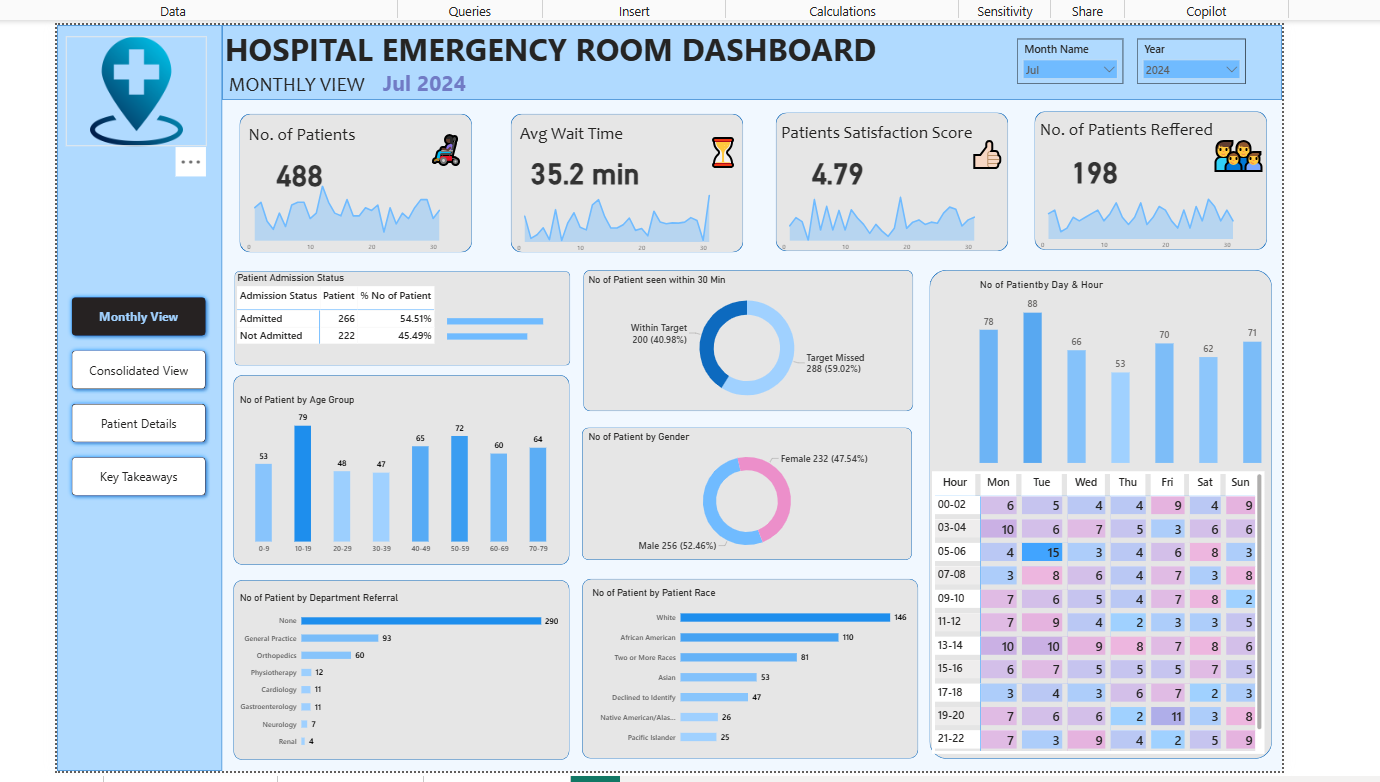

Layout of this report page (visuals, bound fields, positions):
{"tool":"powerbi","page":{"name":"Monthly View","canvas":[2300,1400],"ordinal":0},"visuals":[{"type":"shape","box":[0,0,310,1400],"z":0},{"type":"shape","box":[309.7,0,1989.3,140.8],"z":1000},{"type":"textbox","box":[309.7,0,1259.7,91.5],"z":2000},{"type":"textbox","box":[316.7,84.5,290.9,56.3],"z":3000},{"type":"shape","box":[343.1,167.2,436.3,260.4],"z":4000},{"type":"card","fields":{"Values":["Hospital ER_Data.No of Patient"]},"box":[368.9,235.3,173.6,82.1],"z":5000},{"type":"slicer","fields":{"Values":["Date Table.Month Name"]},"box":[1801.6,25.8,199.4,84.5],"z":6000},{"type":"slicer","fields":{"Values":["Date Table.Year"]},"box":[2026.8,25.8,204.1,84.5],"z":7000},{"type":"textbox","box":[354.8,181.3,229.9,58.6],"z":8000},{"type":"areaChart","fields":{"Category":["Date Table.Date.Variation.Date Hierarchy.Day"],"Y":["Hospital ER_Data.No of Patient"]},"box":[344,289.5,434,145.4],"z":9000},{"type":"card","fields":{"Values":["Min(Date Table.Month & Year)"]},"box":[577.1,82.1,225.2,51.6],"z":10000},{"type":"shape","box":[851.8,166.3,436.3,260.4],"z":11000},{"type":"card","fields":{"Values":["Hospital ER_Data.Avg Wait Time"]},"box":[876.5,233.2,227.5,82.1],"z":12000},{"type":"textbox","box":[862.4,179.2,241.6,58.6],"z":13000},{"type":"areaChart","fields":{"Category":["Date Table.Date.Variation.Date Hierarchy.Day"],"Y":["Avg(Hospital ER_Data.Patient Waittime)"]},"box":[851.8,290.6,434,145.4],"z":14000},{"type":"shape","box":[1349.7,165,436.3,260.4],"z":15000},{"type":"card","fields":{"Values":["Hospital ER_Data.Avg Patient Satisfaction Score"]},"box":[1369.1,233.2,190,82.1],"z":16000},{"type":"textbox","box":[1353.6,175.9,375.3,58.6],"z":17000},{"type":"areaChart","fields":{"Category":["Date Table.Date.Variation.Date Hierarchy.Day"],"Y":["Avg(Hospital ER_Data.Patient Satisfaction Score)"]},"box":[1349.7,289.3,434,145.4],"z":18000},{"type":"shape","box":[1834.2,161.7,436.3,260.4],"z":19000},{"type":"card","fields":{"Values":["Hospital ER_Data.No of Patient Reffered"]},"box":[1860,229.7,173.6,82.1],"z":20000},{"type":"textbox","box":[1839.2,171.2,356.6,58.6],"z":21000},{"type":"areaChart","fields":{"Category":["Date Table.Date.Variation.Date Hierarchy.Day"],"Y":["Hospital ER_Data.No of Patient Reffered"]},"box":[1834.2,286,434,145.4],"z":22000},{"type":"shape","box":[333.1,463,630,177],"z":23000},{"type":"pivotTable","title":"Patient Admission Status","fields":{"Rows":["Hospital ER_Data.Admission Status"],"Values":["Hospital ER_Data.No of Patient","Divide(Hospital ER_Data.No of Patient, ScopedEval(Hospital ER_Data.No of Patient, []))"]},"box":[333.1,465.3,628.7,171.2],"z":24000},{"type":"barChart","fields":{"Category":["Hospital ER_Data.Admission Status"],"Y":["Hospital ER_Data.No of Patient"]},"box":[727.2,524,213.5,89.1],"z":25000},{"type":"shape","box":[330.8,656.8,631,356.6],"z":26000},{"type":"clusteredColumnChart","title":"No of Patient by Age Group","fields":{"Category":["Hospital ER_Data.age Group"],"Y":["Hospital ER_Data.No of Patient"]},"box":[337.8,691,617,309.7],"z":27000},{"type":"shape","box":[330.8,1041.4,631,337.8],"z":28000},{"type":"clusteredBarChart","fields":{"Y":["Hospital ER_Data.No of Patient"],"Category":["Hospital ER_Data.Department Referral"]},"box":[337.8,1064.8,607.6,305],"z":29000},{"type":"shape","box":[987.9,459.8,619.3,265.1],"z":30000},{"type":"donutChart","title":"No of Patient seen within 30 Min","fields":{"Y":["Hospital ER_Data.No of Patient"],"Category":["Hospital ER_Data.waittime status"]},"box":[992.6,466.8,605.2,258],"z":31000},{"type":"shape","box":[985.5,754.6,619.3,248.7],"z":32000},{"type":"donutChart","title":"No of Patient by Gender","fields":{"Y":["Hospital ER_Data.No of Patient"],"Category":["Hospital ER_Data.Patient Gender"]},"box":[992.6,761.6,605.2,241.6],"z":33000},{"type":"shape","box":[985.3,1039.2,631,337.8],"z":34000},{"type":"clusteredBarChart","fields":{"Y":["Hospital ER_Data.No of Patient"],"Category":["Hospital ER_Data.Patient Race"]},"box":[999.6,1055.6,607.6,309.7],"z":35000},{"type":"shape","box":[1637.4,459.8,642.8,917.2],"z":36000},{"type":"pivotTable","fields":{"Rows":["Hospital ER_Data.waittime Interval"],"Values":["Hospital ER_Data.No of Patient"],"Columns":["Date Table.Day Name"]},"box":[1642.1,837.5,624,530.2],"z":37000},{"type":"columnChart","title":"No of Patientby Day & Hour","fields":{"Y":["Hospital ER_Data.No of Patient"],"Category":["Date Table.Day Name"]},"box":[1726.6,476.2,541.9,351.9],"z":38000},{"type":"image","box":[16.4,21.1,265.1,206.4],"z":39000},{"type":"textbox","box":[2160.5,201.7,110.3,84.5],"z":40000},{"type":"textbox","box":[1217.5,194.7,86.8,82.1],"z":41000},{"type":"textbox","box":[1707.8,197.1,77.4,89.1],"z":42000},{"type":"textbox","box":[692,190,110.3,96.2],"z":43000}]}

Visuals, with their boxes on the page's 2300x1400 design canvas (x1, y1, x2, y2). These are canvas units, not pixel positions in the 1380x782 screenshot, which may show the page scaled, cropped or inside an application window:
shape: bbox=(0, 0, 310, 1400)
shape: bbox=(310, 0, 2299, 141)
textbox: bbox=(310, 0, 1569, 92)
textbox: bbox=(317, 84, 608, 141)
shape: bbox=(343, 167, 779, 428)
card - Hospital ER_Data.No of Patient: bbox=(369, 235, 542, 317)
slicer - Date Table.Month Name: bbox=(1802, 26, 2001, 110)
slicer - Date Table.Year: bbox=(2027, 26, 2231, 110)
textbox: bbox=(355, 181, 585, 240)
areaChart - Date Table.Date.Variation.Date Hierarchy.Day x Hospital ER_Data.No of Patient: bbox=(344, 290, 778, 435)
card - Min(Date Table.Month & Year): bbox=(577, 82, 802, 134)
shape: bbox=(852, 166, 1288, 427)
card - Hospital ER_Data.Avg Wait Time: bbox=(876, 233, 1104, 315)
textbox: bbox=(862, 179, 1104, 238)
areaChart - Date Table.Date.Variation.Date Hierarchy.Day x Avg(Hospital ER_Data.Patient Waittime): bbox=(852, 291, 1286, 436)
shape: bbox=(1350, 165, 1786, 425)
card - Hospital ER_Data.Avg Patient Satisfaction Score: bbox=(1369, 233, 1559, 315)
textbox: bbox=(1354, 176, 1729, 234)
areaChart - Date Table.Date.Variation.Date Hierarchy.Day x Avg(Hospital ER_Data.Patient Satisfaction Score): bbox=(1350, 289, 1784, 435)
shape: bbox=(1834, 162, 2270, 422)
card - Hospital ER_Data.No of Patient Reffered: bbox=(1860, 230, 2034, 312)
textbox: bbox=(1839, 171, 2196, 230)
areaChart - Date Table.Date.Variation.Date Hierarchy.Day x Hospital ER_Data.No of Patient Reffered: bbox=(1834, 286, 2268, 431)
shape: bbox=(333, 463, 963, 640)
"Patient Admission Status" pivotTable: bbox=(333, 465, 962, 636)
barChart - Hospital ER_Data.Admission Status x Hospital ER_Data.No of Patient: bbox=(727, 524, 941, 613)
shape: bbox=(331, 657, 962, 1013)
"No of Patient by Age Group" clusteredColumnChart: bbox=(338, 691, 955, 1001)
shape: bbox=(331, 1041, 962, 1379)
clusteredBarChart - Hospital ER_Data.No of Patient x Hospital ER_Data.Department Referral: bbox=(338, 1065, 945, 1370)
shape: bbox=(988, 460, 1607, 725)
"No of Patient seen within 30 Min" donutChart: bbox=(993, 467, 1598, 725)
shape: bbox=(986, 755, 1605, 1003)
"No of Patient by Gender" donutChart: bbox=(993, 762, 1598, 1003)
shape: bbox=(985, 1039, 1616, 1377)
clusteredBarChart - Hospital ER_Data.No of Patient x Hospital ER_Data.Patient Race: bbox=(1000, 1056, 1607, 1365)
shape: bbox=(1637, 460, 2280, 1377)
pivotTable - Hospital ER_Data.waittime Interval x Hospital ER_Data.No of Patient: bbox=(1642, 838, 2266, 1368)
"No of Patientby Day & Hour" columnChart: bbox=(1727, 476, 2268, 828)
image: bbox=(16, 21, 282, 228)
textbox: bbox=(2160, 202, 2271, 286)
textbox: bbox=(1218, 195, 1304, 277)
textbox: bbox=(1708, 197, 1785, 286)
textbox: bbox=(692, 190, 802, 286)
